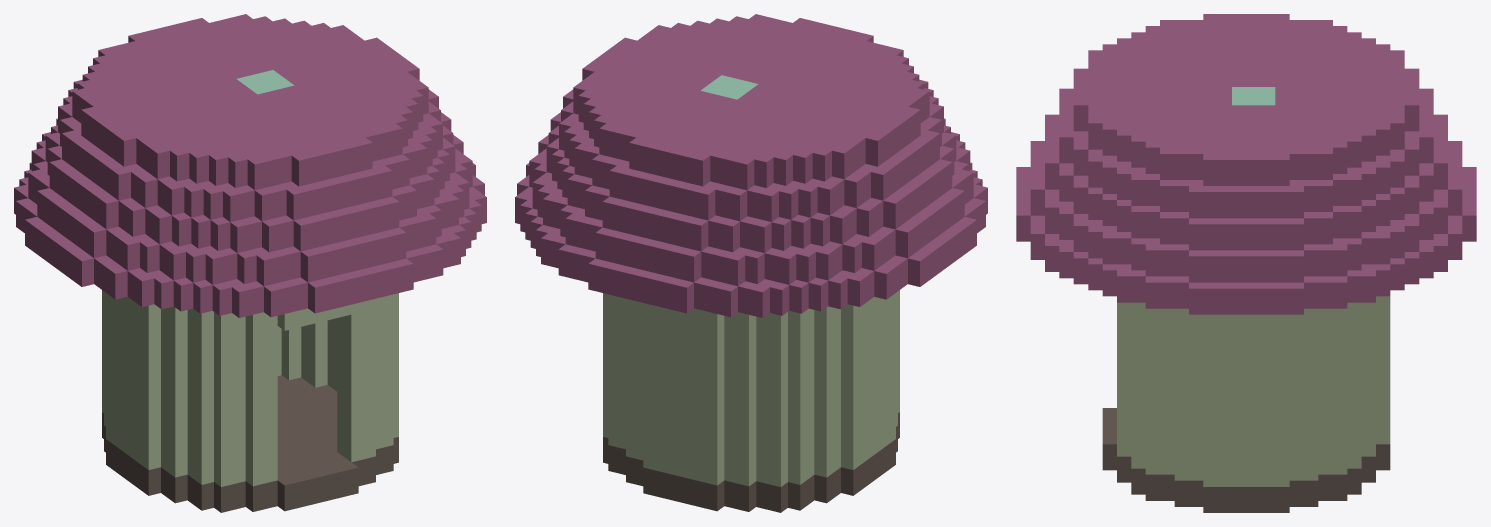
The model's file is house.glb.
3 views of the same model, side by side, from view 1: azimuth 30°, elevation 25°; view 2: azimuth 150°, elevation 25°; view 3: azimuth 270°, elevation 25° (orthographic).
Visible parts, largest first — view 1: Shell; view 2: Shell; view 3: Shell.
Boxes of the visible parts, <box> form: Shell: <box>14,14,486,512</box>; Shell: <box>515,14,987,512</box>; Shell: <box>1016,14,1476,512</box>.
Size of the model in its own units: 4 by 3.5 by 4.
